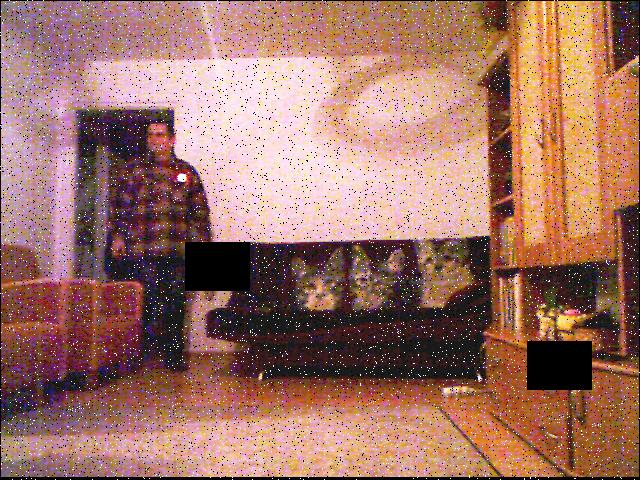standing: (104, 110, 222, 389)
